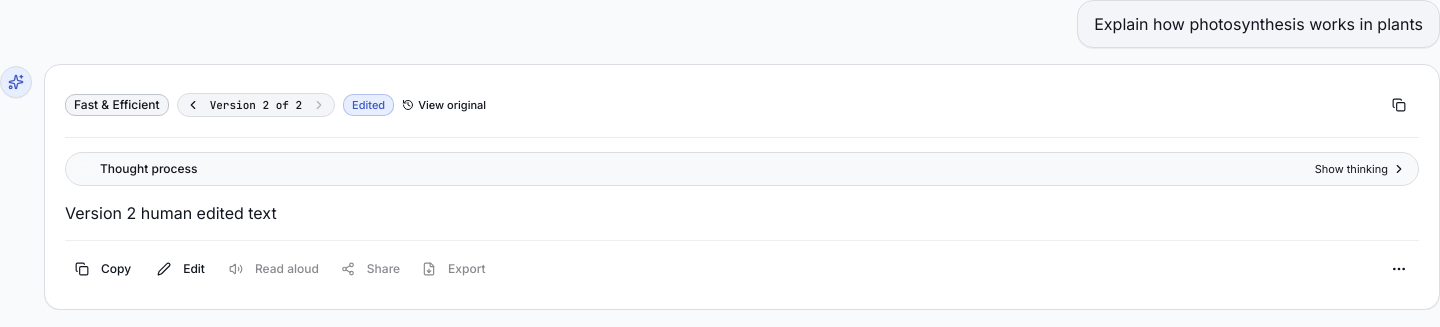
Test: Step 3.7 — Conversation UI (Response cards, versions, thinking, edit) › ResponseCard Component › toggles between Viewing edited and View original
Expected: the text "Version 2 human edited text" is shown, top-left (65, 203), bottom-right (277, 223)
Expected: the text "View original" is shown, top-left (418, 97), bottom-right (486, 113)
# Click "View original"
Click the button "View original" at {"x": 444, "y": 105}, box top-left (402, 97), bottom-right (486, 113)
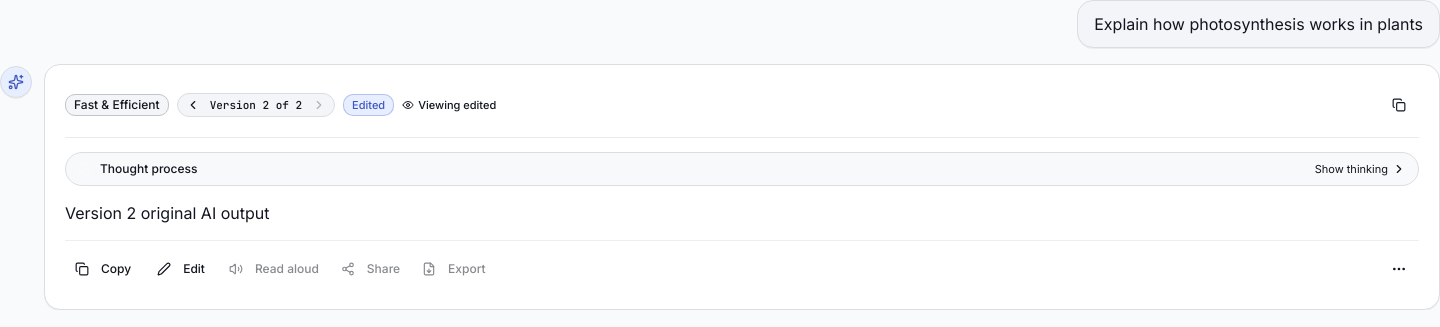
Now the text "Version 2 original AI output" is shown, box top-left (65, 203), bottom-right (270, 223)
Now the text "Viewing edited" is shown, box top-left (418, 97), bottom-right (496, 113)
